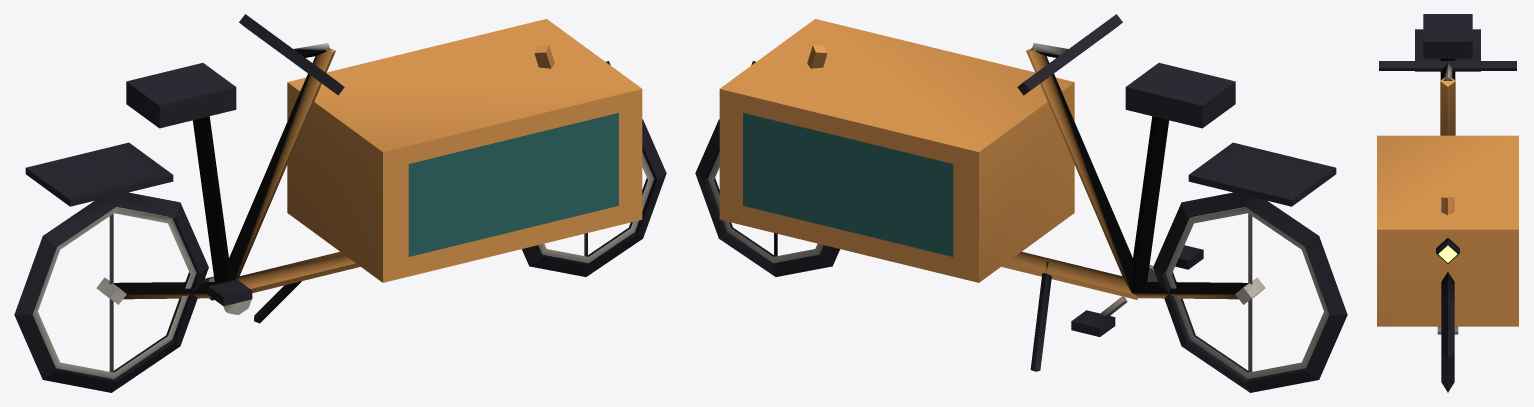
3 renders of one model, left to right at view 1: azimuth 30°, elevation 25°; view 2: azimuth 150°, elevation 25°; view 3: azimuth 270°, elevation 25°, orthographic. The views are drawn at different scales.
Parts seen in each view (by area): view 1: cargo_box, body, wheel_rear, saddle_mount, wheel_front, handlebar, pedal_r; view 2: cargo_box, body, wheel_rear, saddle_mount, wheel_front, handlebar, kickstand, pedal_l; view 3: cargo_box, saddle_mount, body, wheel_front, handlebar, lightsFront.
Boxes of the visible parts, x1,y1,x2,y2 form: cargo_box: [287, 19, 642, 282]; body: [25, 45, 554, 299]; wheel_rear: [14, 192, 208, 392]; saddle_mount: [126, 63, 236, 128]; wheel_front: [522, 119, 666, 276]; handlebar: [239, 14, 344, 95]; pedal_r: [208, 279, 252, 306]; cargo_box: [719, 19, 1074, 282]; body: [807, 45, 1336, 299]; wheel_rear: [1153, 192, 1347, 392]; saddle_mount: [1125, 63, 1235, 128]; wheel_front: [695, 119, 839, 276]; handlebar: [1017, 14, 1122, 95]; kickstand: [1030, 262, 1051, 371]; pedal_l: [1071, 310, 1115, 336]; cargo_box: [1377, 135, 1518, 326]; saddle_mount: [1423, 14, 1472, 58]; body: [1415, 29, 1480, 214]; wheel_front: [1437, 272, 1458, 392]; handlebar: [1379, 61, 1516, 80]; lightsFront: [1436, 238, 1459, 263].
Size of the model in its own units: 2.71 by 1.2 by 0.698.
